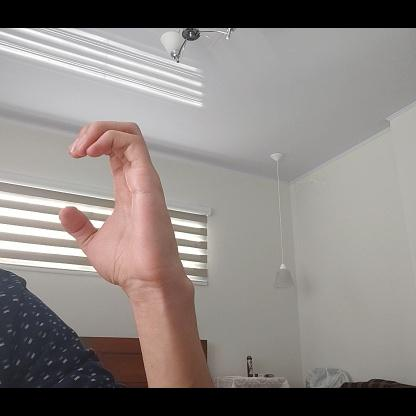C: (54, 118, 184, 283)
